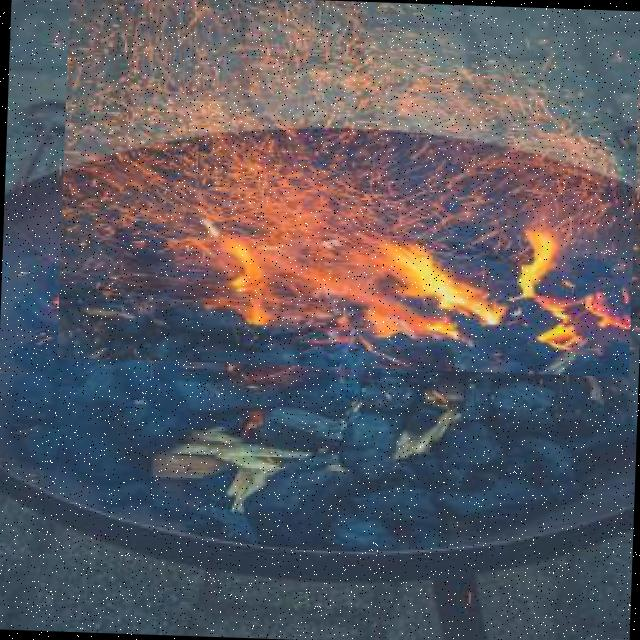fire: (57, 0, 640, 377)
